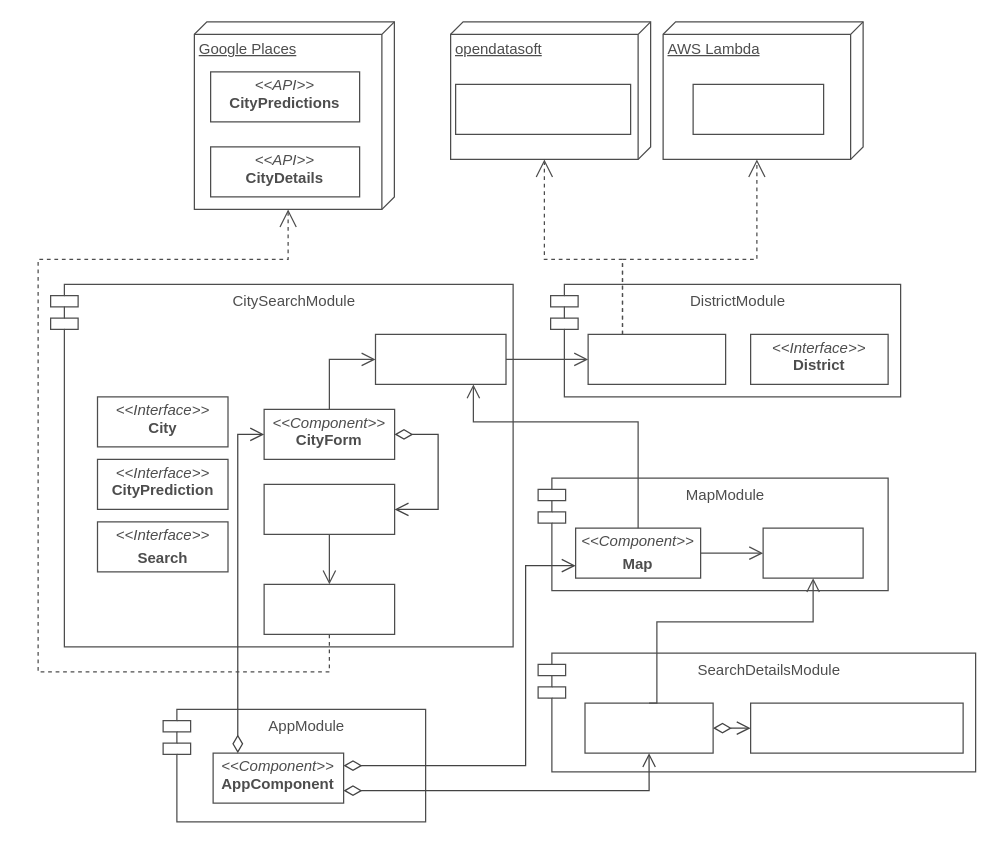
Image size: 998x844. Some labels were removed from this diagram. Each missing label, with the centre of its shape:
<<API>> Districts: the point at 758,108
<<API>> DistrictsGeoJson: the point at 542,108
<<Component>> CityInput: the point at 329,508
<<Component>> SearchDetails: the point at 648,727
<<Service>> City: the point at 329,608
<<Service>> ClickedDistrictDetails: the point at 856,727
<<Service>> District: the point at 656,358
<<Service>> Map: the point at 812,552
<<Service>> Search: the point at 440,358
